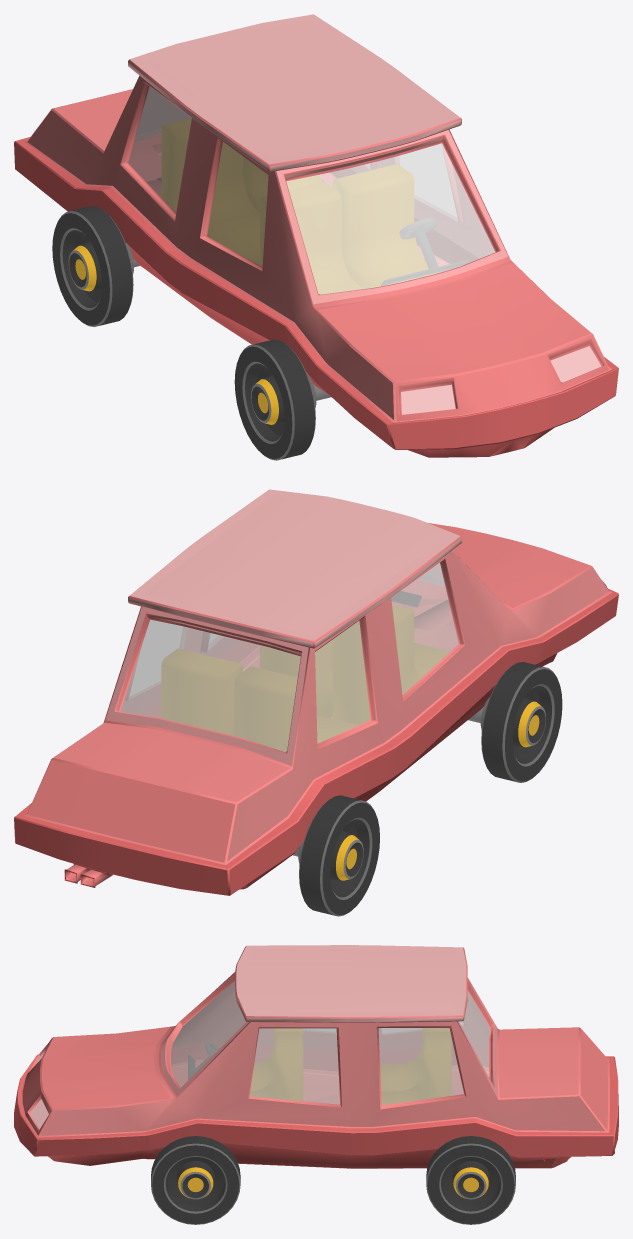
Rendered from lowpolycar-normal-downsized.glb.
The picture shows the model from 3 angles, top to bottom: view 1: azimuth 30°, elevation 25°; view 2: azimuth 150°, elevation 25°; view 3: azimuth 270°, elevation 25°; orthographic projection. The views are drawn at different scales.
Visible parts, largest first — view 1: Auto.003, Räder.006; view 2: Auto.003, Räder.006; view 3: Auto.003, Räder.006.
Part boxes in pixels (x1,y1,x2,y2): Auto.003: [14, 14, 618, 457]; Räder.006: [52, 206, 331, 460]; Auto.003: [14, 489, 618, 895]; Räder.006: [292, 662, 562, 916]; Auto.003: [14, 945, 618, 1168]; Räder.006: [151, 1136, 515, 1224].
Size of the model in its own units: 1.37 by 1.23 by 3.44.
Materials: 5 (4 with a texture image).
